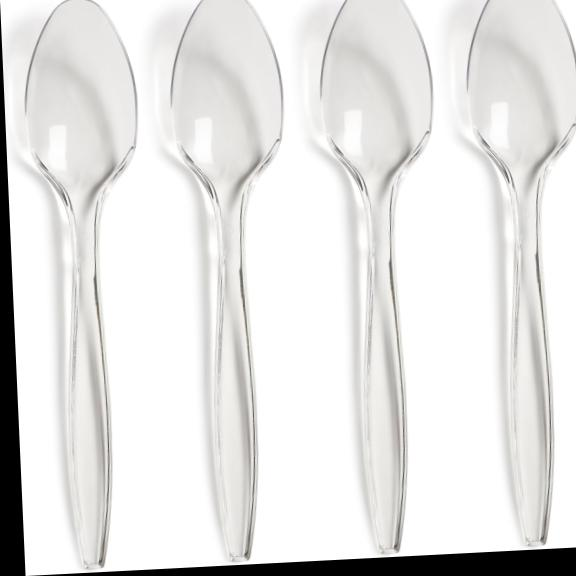Plastik: (26, 0, 137, 568), (171, 0, 282, 560), (321, 0, 432, 553), (468, 0, 575, 546)
